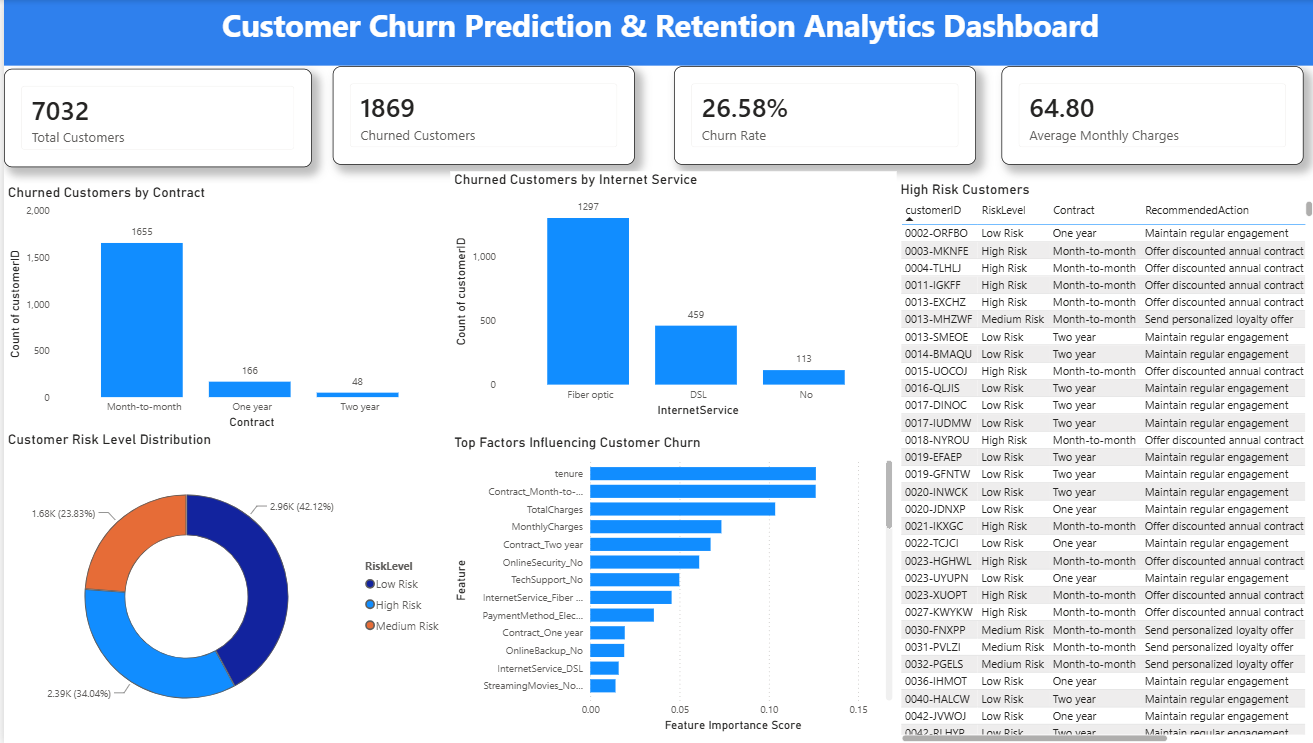

The page's visual inventory and layout, read from the dashboard file:
{"tool":"powerbi","page":{"name":"Page 1","canvas":[1607,909],"ordinal":0},"visuals":[{"type":"textbox","box":[0,0,1600,80],"z":0},{"type":"cardVisual","fields":{"Data":["customer_churn_powerbi.Total Customers"]},"box":[-0.2,84.4,375,120],"z":1000},{"type":"cardVisual","fields":{"Data":["customer_churn_powerbi.Avg_Monthly_Charges"]},"box":[1216,80,368,120],"z":2000},{"type":"cardVisual","fields":{"Data":["customer_churn_powerbi.Churn_Rate"]},"box":[816,80,368,120],"z":3000},{"type":"cardVisual","fields":{"Data":["customer_churn_powerbi.Churned_Customers"]},"box":[400,80,368,120],"z":4000},{"type":"clusteredColumnChart","title":"Churned Customers by Contract","fields":{"Category":["customer_churn_powerbi.Contract"],"Y":["CountNonNull(customer_churn_powerbi.customerID)"]},"box":[0,224,544,304],"z":4001},{"type":"clusteredColumnChart","title":"Churned Customers by Internet Service","fields":{"Category":["customer_churn_powerbi.InternetService"],"Y":["CountNonNull(customer_churn_powerbi.customerID)"]},"box":[544,208,544,304],"z":4002},{"type":"donutChart","title":"Customer Risk Level Distribution","fields":{"Category":["customer_churn_powerbi.RiskLevel"],"Y":["CountNonNull(customer_churn_powerbi.customerID)"]},"box":[0,525,544,384],"z":4003},{"type":"clusteredBarChart","title":"Top Factors Influencing Customer Churn","fields":{"Category":["feature_importance.Feature"],"Y":["Sum(feature_importance.Importance)"]},"box":[544,528,544,368],"z":4004},{"type":"tableEx","title":"High Risk Customers","fields":{"Values":["customer_churn_powerbi.customerID","customer_churn_powerbi.RiskLevel","customer_churn_powerbi.Contract","customer_churn_powerbi.RecommendedAction","customer_churn_powerbi.ChurnProbability","customer_churn_powerbi.MonthlyChargeGroup"]},"box":[1088,221,512,688],"z":4005}]}

Visuals, with their boxes in screenshot pixels (x1, y1, x2, y2), scaled from the page's 1607x909 canvas onto the 1313x743 screenshot:
textbox: select_region(0, 0, 1307, 65)
cardVisual - customer_churn_powerbi.Total Customers: select_region(0, 69, 306, 167)
cardVisual - customer_churn_powerbi.Avg_Monthly_Charges: select_region(994, 65, 1294, 163)
cardVisual - customer_churn_powerbi.Churn_Rate: select_region(667, 65, 967, 163)
cardVisual - customer_churn_powerbi.Churned_Customers: select_region(327, 65, 627, 163)
"Churned Customers by Contract" clusteredColumnChart: select_region(0, 183, 444, 432)
"Churned Customers by Internet Service" clusteredColumnChart: select_region(444, 170, 889, 418)
"Customer Risk Level Distribution" donutChart: select_region(0, 429, 444, 742)
"Top Factors Influencing Customer Churn" clusteredBarChart: select_region(444, 432, 889, 732)
"High Risk Customers" tableEx: select_region(889, 181, 1307, 742)
